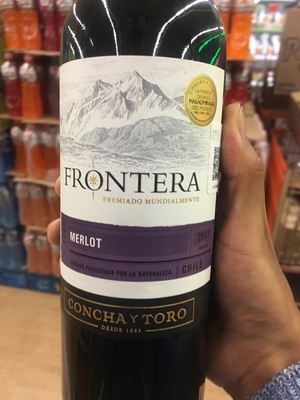frontera merlot: (57, 8, 224, 400)
